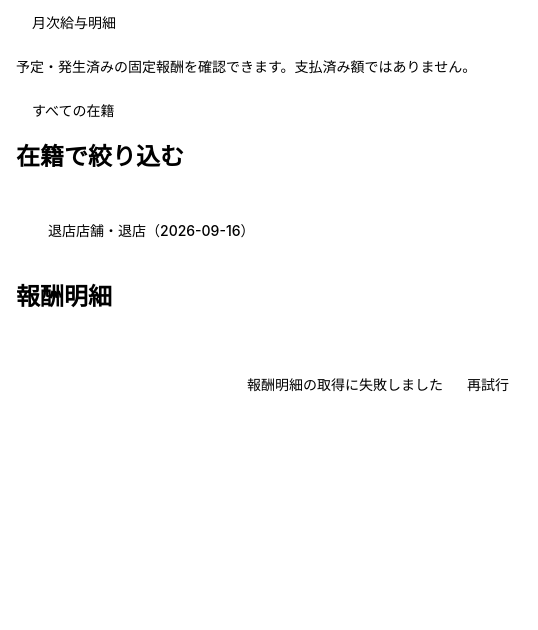
Test: distinguishes failure from empty data and retries the list
Expected: the text "報酬明細の取得に失敗しました" is shown, [247, 375, 443, 395]
Click the button "再試行" at {"x": 488, "y": 385}, box [455, 369, 521, 401]
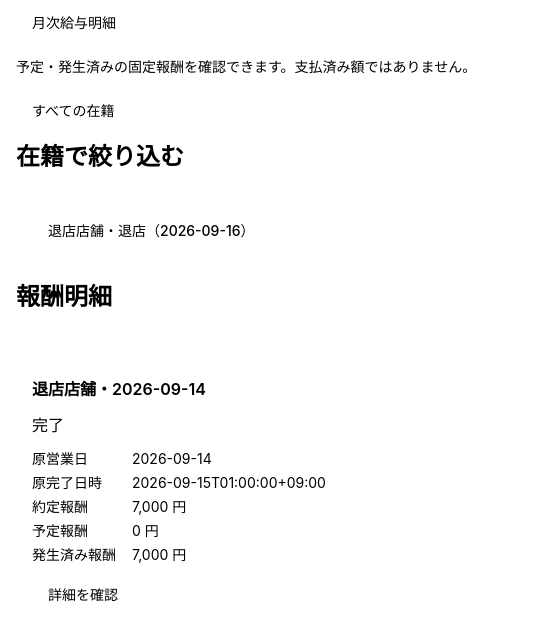
Expected: the button "詳細を確認" is shown, [32, 577, 134, 613]
